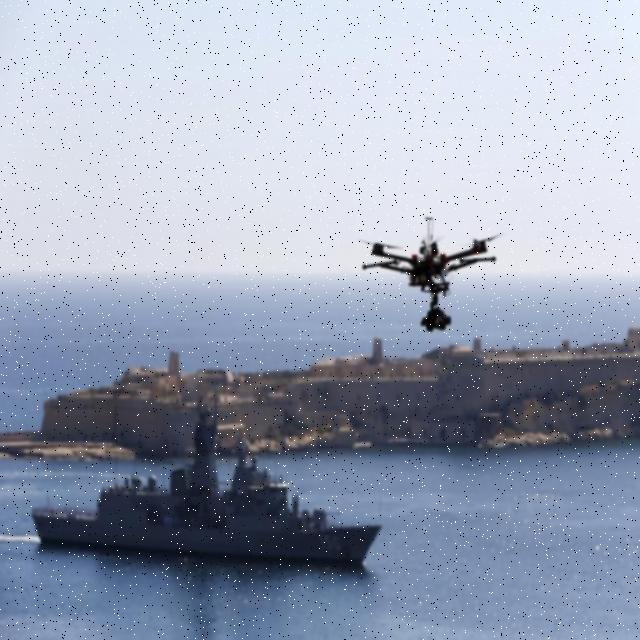UAV: (364, 220, 496, 336)
